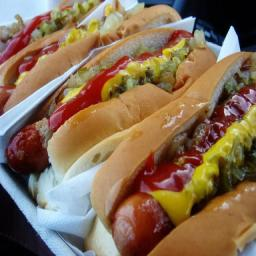hotdog: (107, 194, 164, 256), (2, 117, 54, 178), (0, 82, 17, 110)
